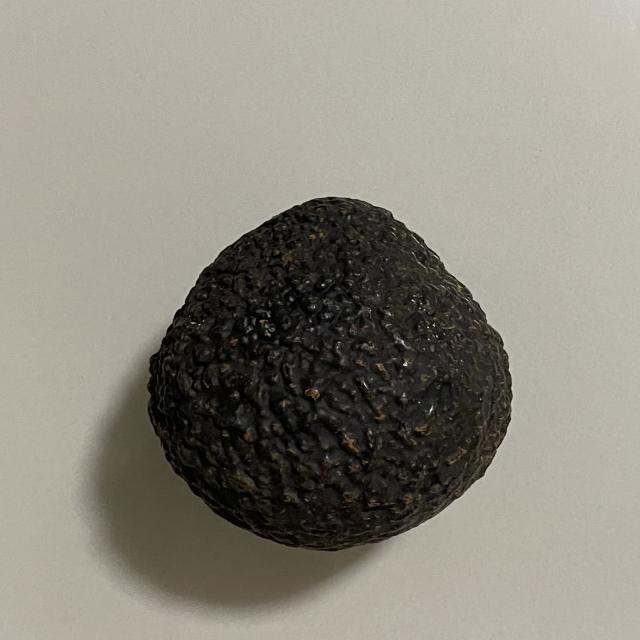avocado: (131, 180, 534, 562)
